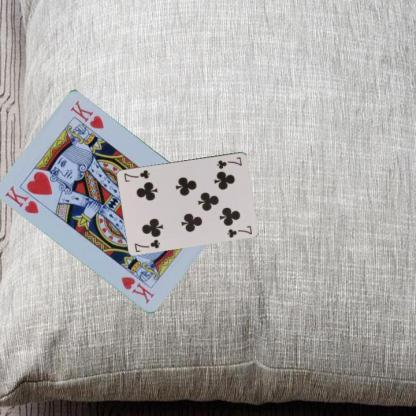7c: (214, 154, 244, 170), (132, 237, 162, 253)
Kh: (2, 183, 40, 215)
